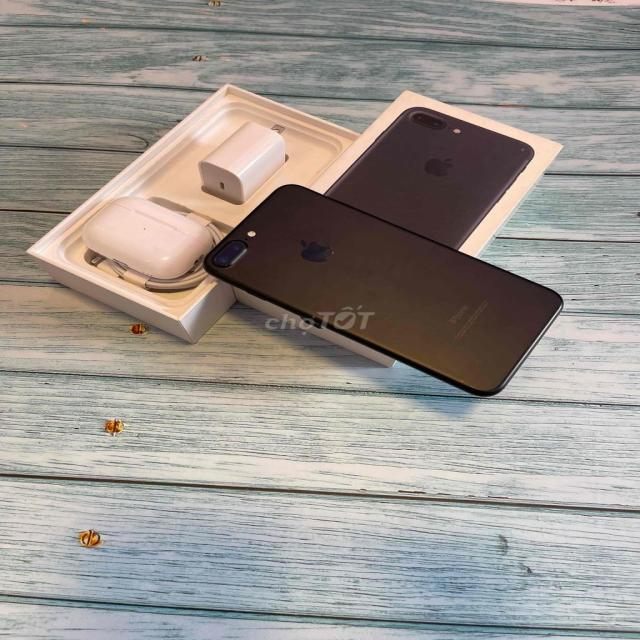gen_7_8: (204, 184, 575, 408)
